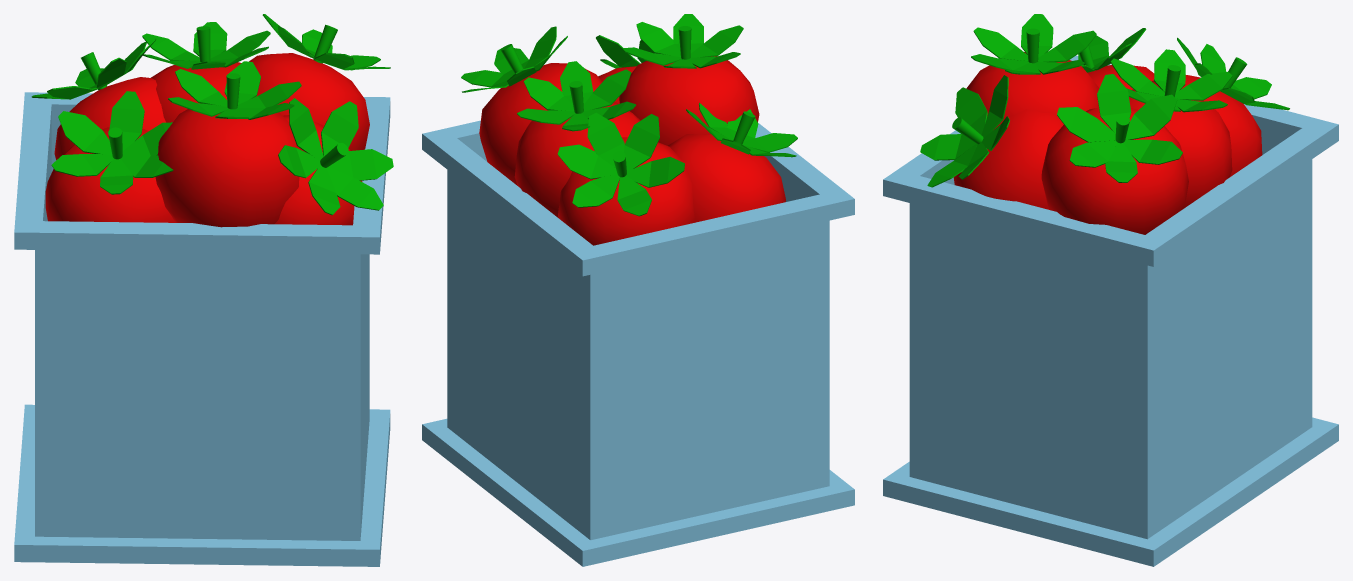
Rendered from ColecionJitomates.fbx.
3 renders of one model, left to right at view 1: azimuth 30°, elevation 25°; view 2: azimuth 150°, elevation 25°; view 3: azimuth 270°, elevation 25°, orthographic. The views are drawn at different scales.
Visible parts, largest first — view 1: polySurface65; view 2: polySurface65; view 3: polySurface65.
Boxes of the visible parts, box(x1,y1,x2,y2) form: polySurface65: box(14, 14, 393, 566); polySurface65: box(422, 14, 854, 566); polySurface65: box(883, 14, 1338, 566).
Bounding box in the file's own units: 9.17 × 9.38 × 8.96.
